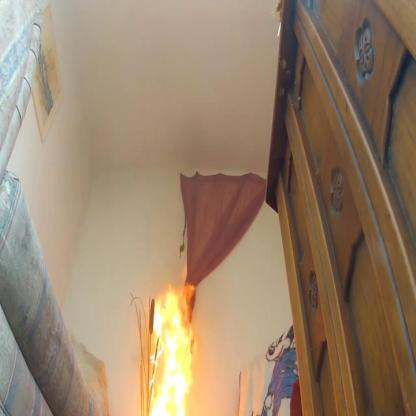fire: (146, 282, 199, 416)
